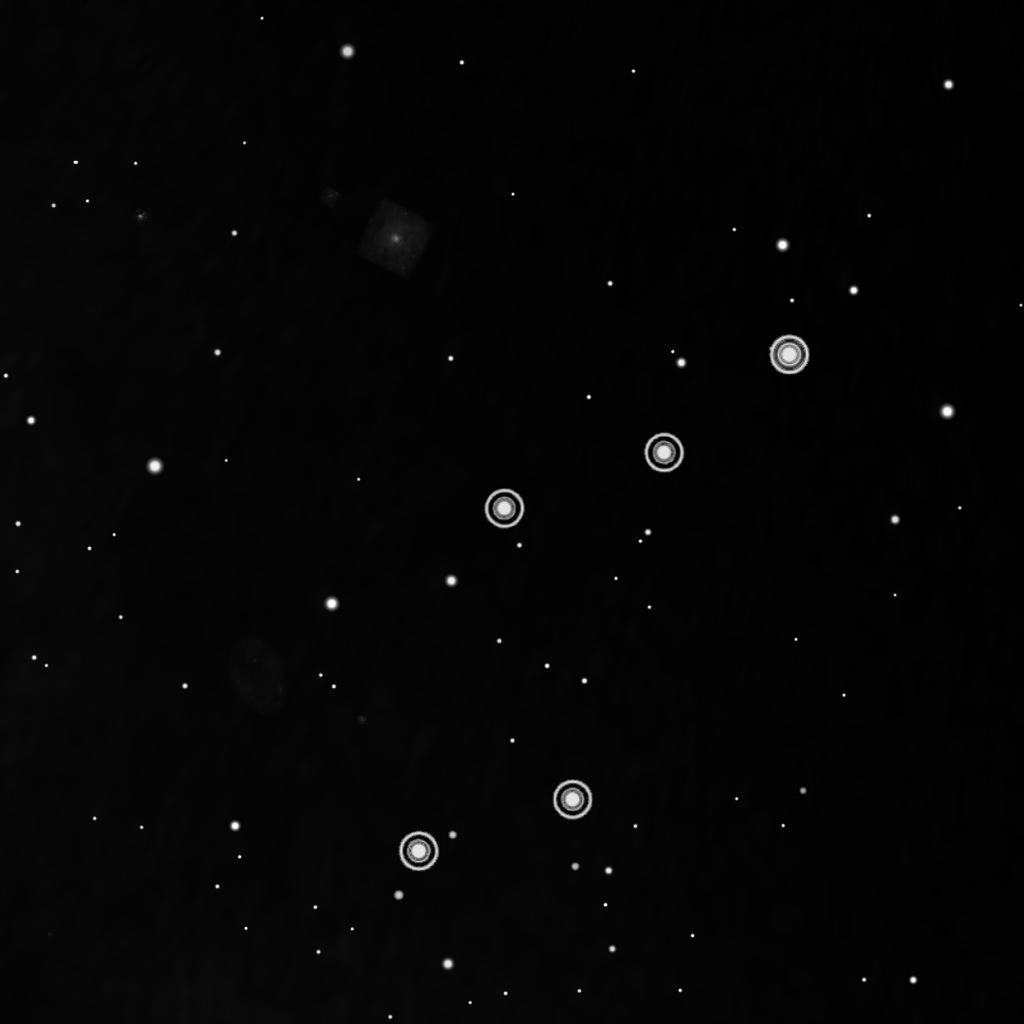lyra: (390, 325, 813, 882)
